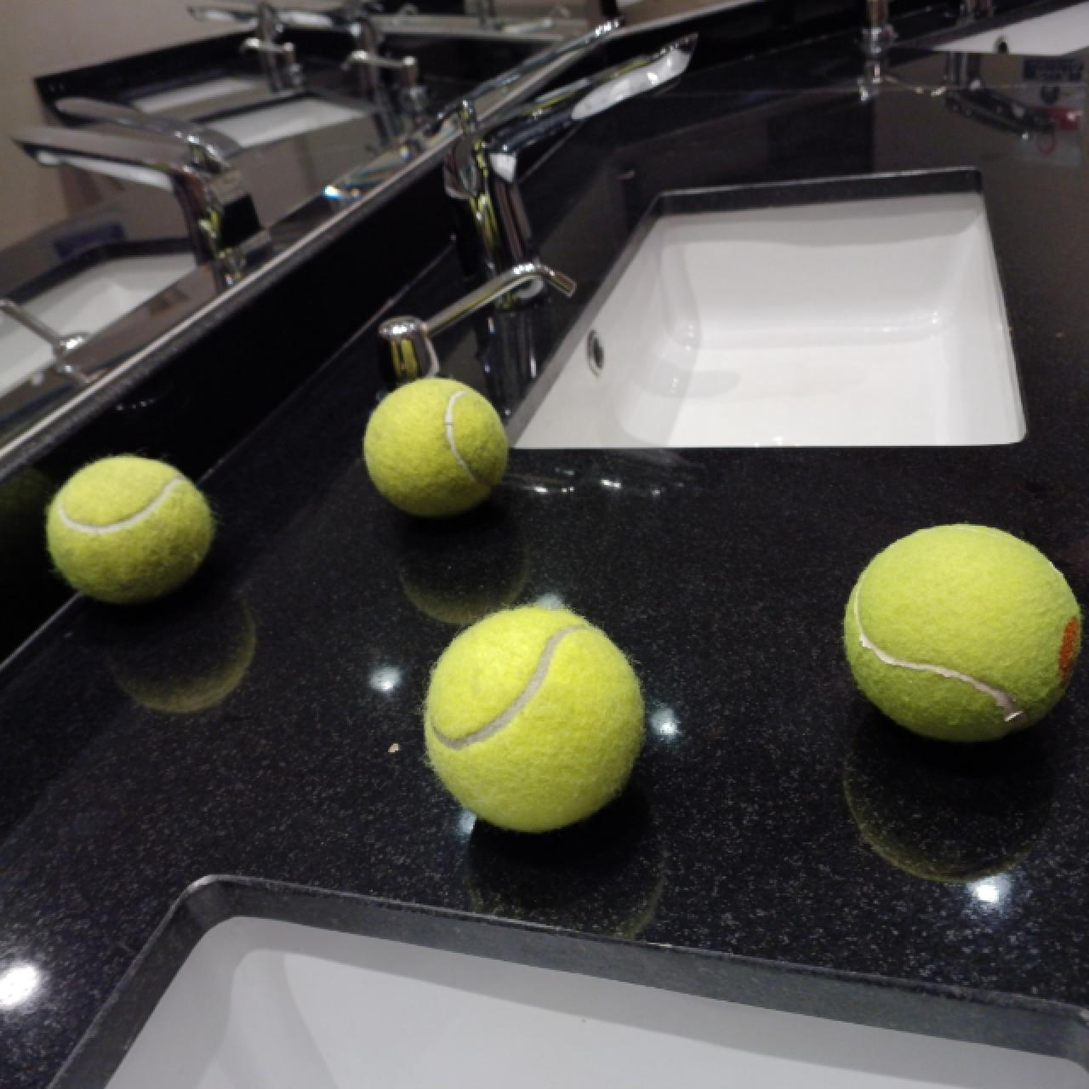tennis-ball: (840, 521, 1085, 742), (424, 605, 647, 832), (45, 453, 217, 614), (365, 376, 509, 520)
